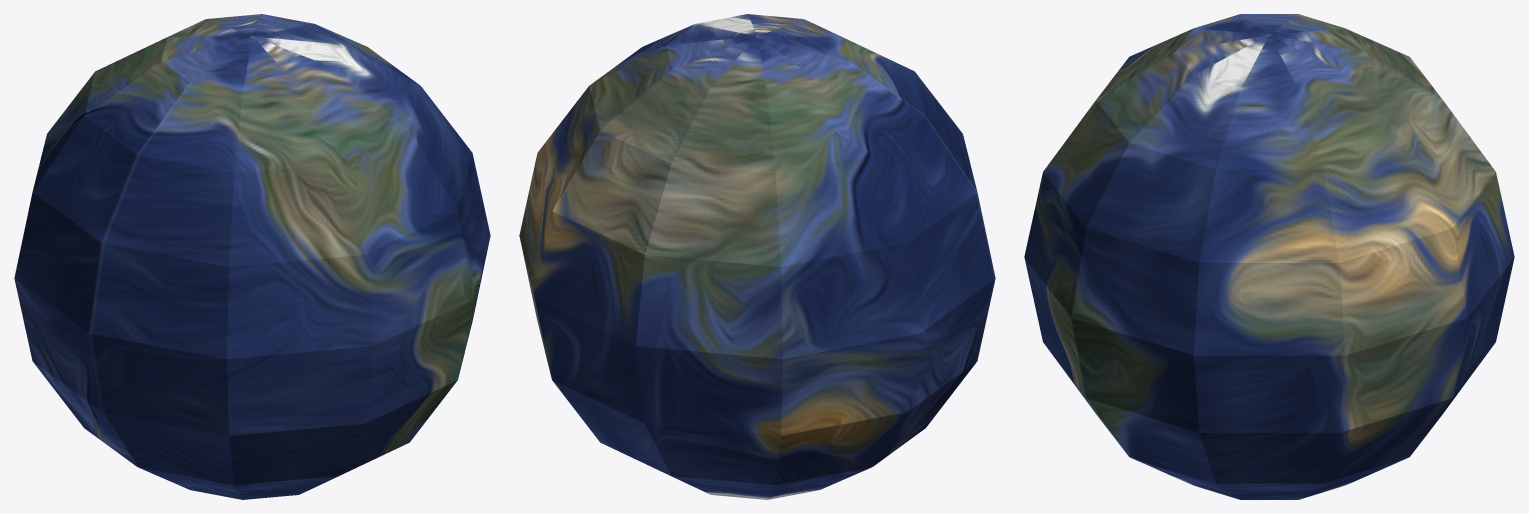
The model's file is dunya3.gltf.
3 renders of one model, left to right at view 1: azimuth 30°, elevation 25°; view 2: azimuth 150°, elevation 25°; view 3: azimuth 270°, elevation 25°, orthographic.
Parts seen in each view (by area): view 1: Sphere; view 2: Sphere; view 3: Sphere.
Part boxes in pixels (<box>): Sphere: <box>14,14,490,499</box>; Sphere: <box>519,14,995,499</box>; Sphere: <box>1024,14,1514,499</box>.
Size of the model in its own units: 1.9 by 2 by 2.
1 material, 1 textured.
